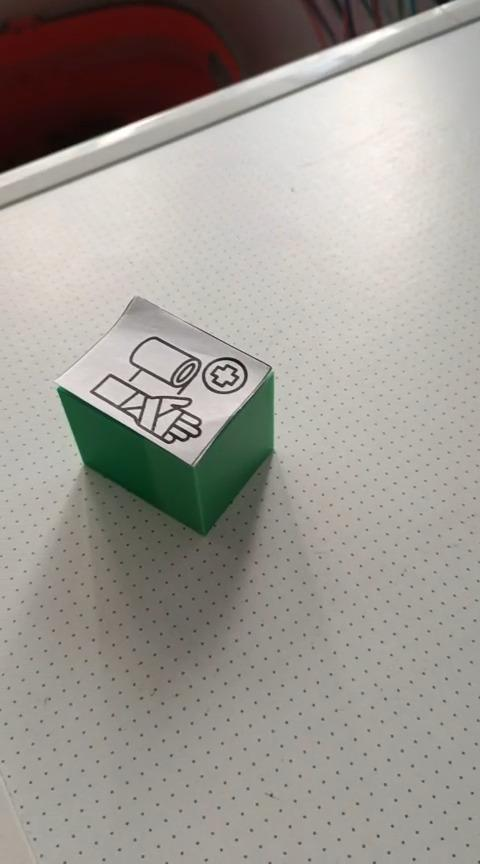Bandages: (56, 296, 275, 539)
